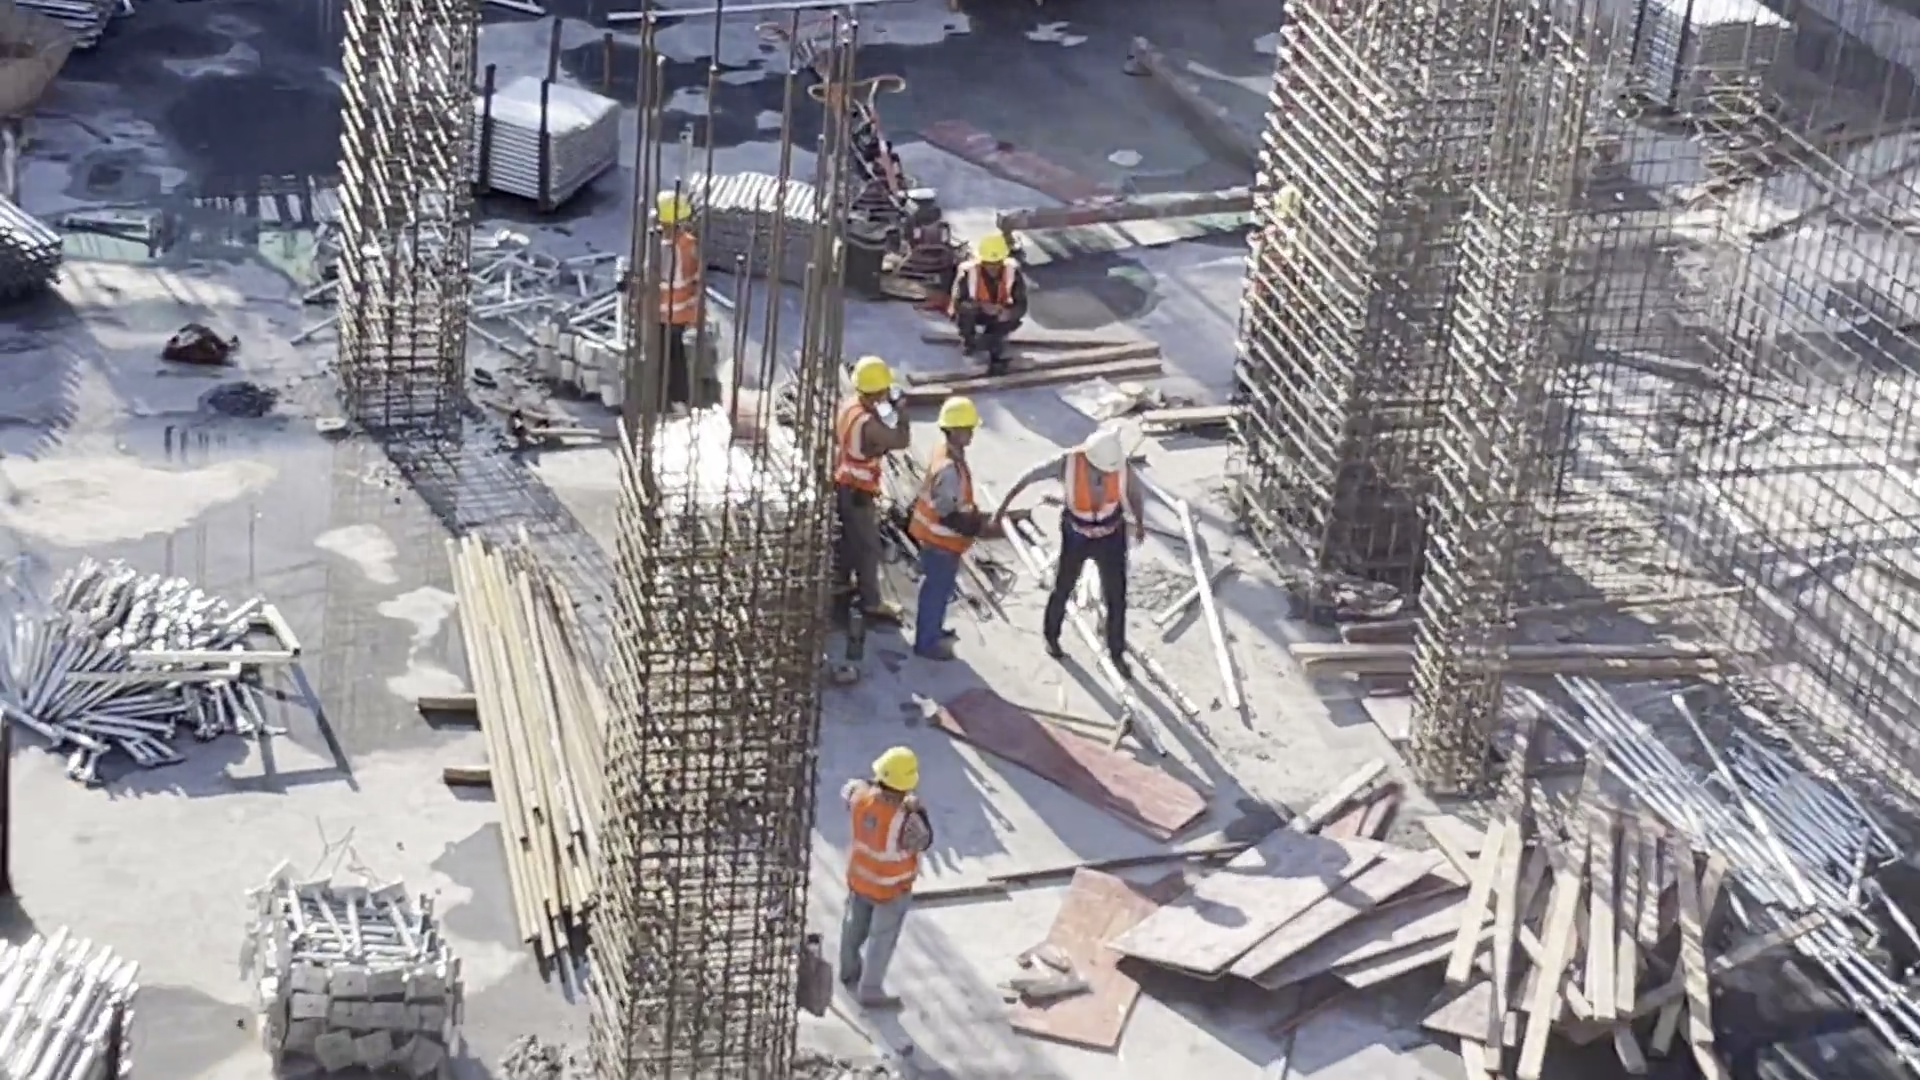helmet: (877, 750, 930, 800), (649, 190, 701, 231), (1089, 430, 1129, 475), (940, 394, 981, 434), (974, 234, 1015, 265), (859, 354, 885, 395)
person: (1043, 416, 1154, 687), (836, 738, 937, 1017), (904, 394, 1003, 678), (828, 350, 903, 637), (633, 189, 730, 405), (944, 226, 1041, 372)
vest: (834, 793, 925, 920), (836, 395, 888, 493), (654, 238, 704, 335), (910, 446, 964, 534), (958, 257, 1028, 313), (1067, 458, 1119, 531)
